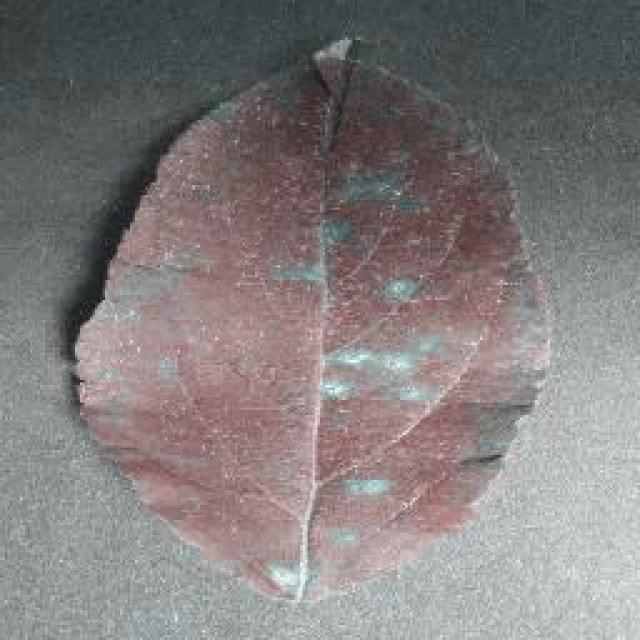apple healthy: (70, 35, 555, 605)
